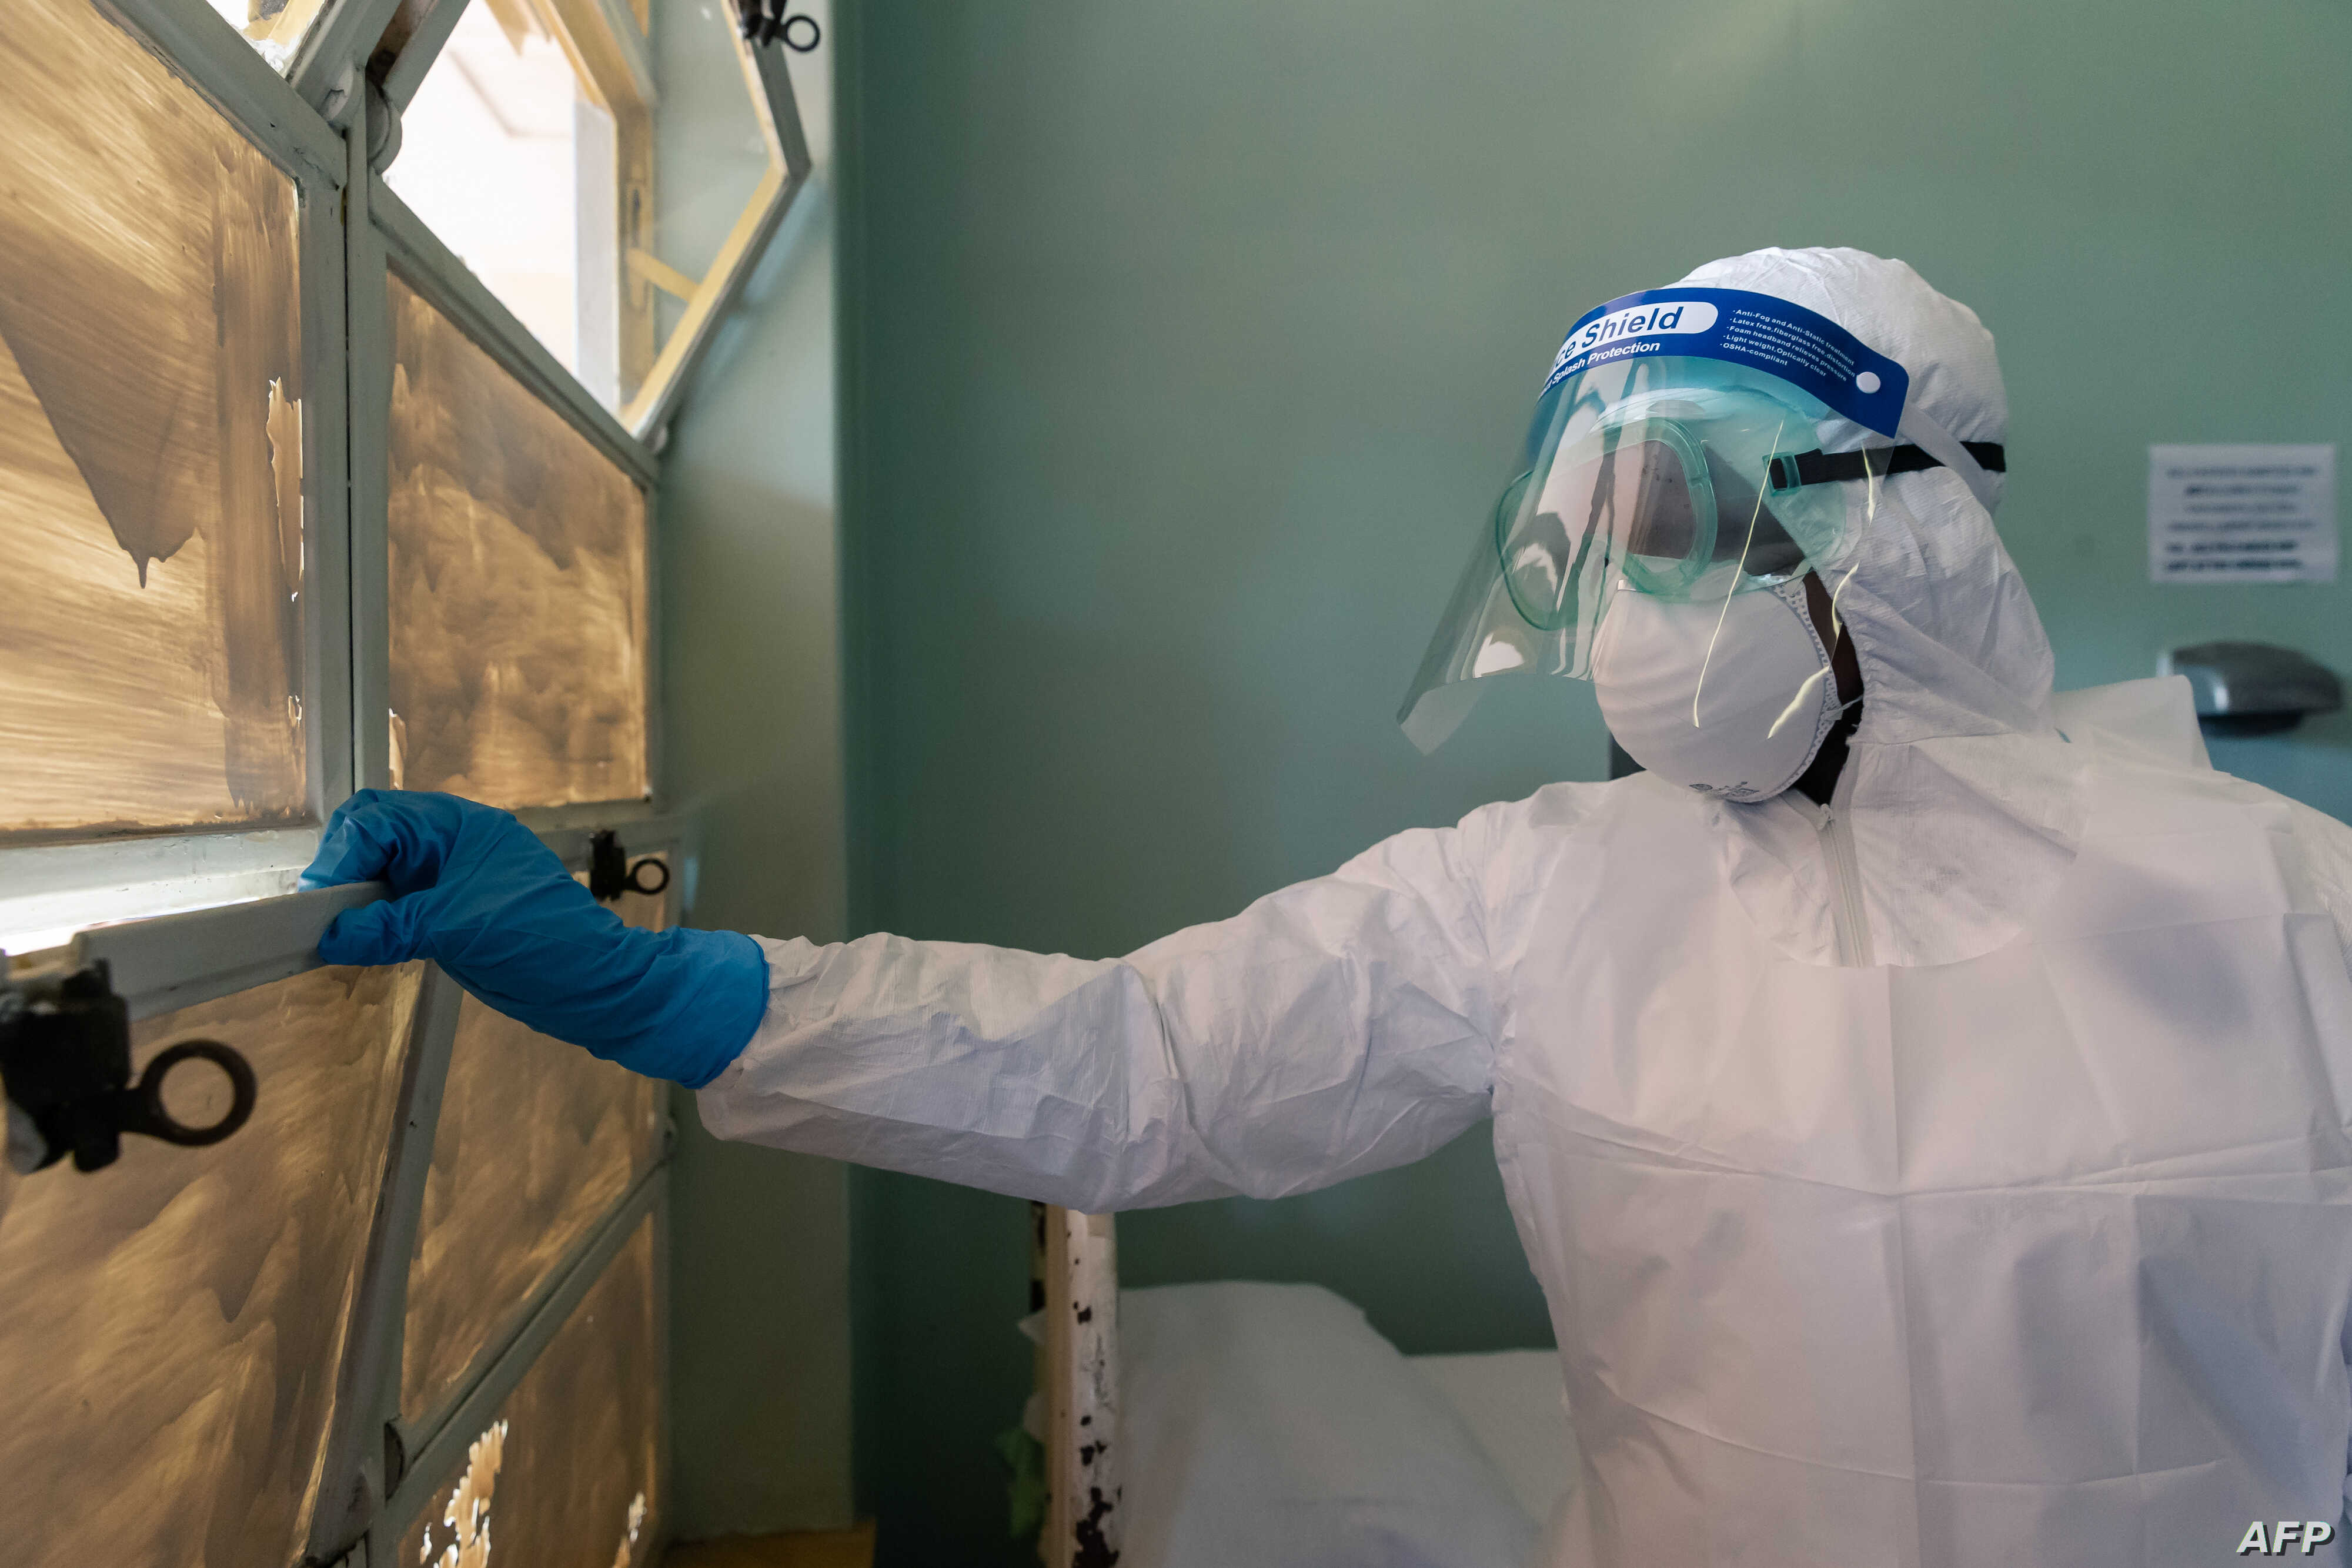Coverall: (1346, 765, 2352, 1568)
Gloves: (313, 791, 763, 1099)
Goggles: (1482, 427, 1794, 626)
Mask: (1591, 590, 1862, 808)
